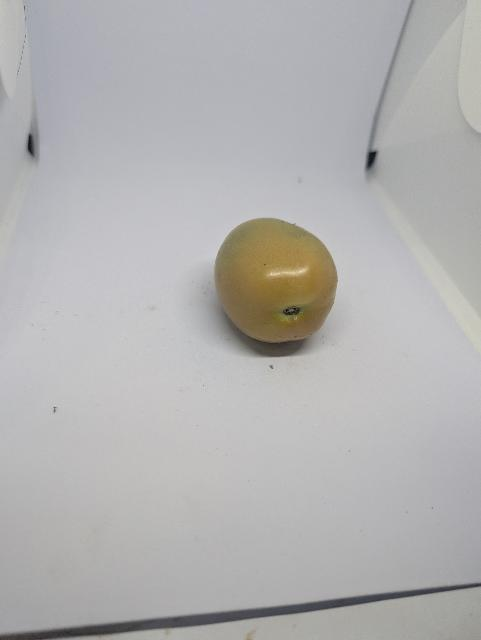breaker: (213, 205, 343, 350)
